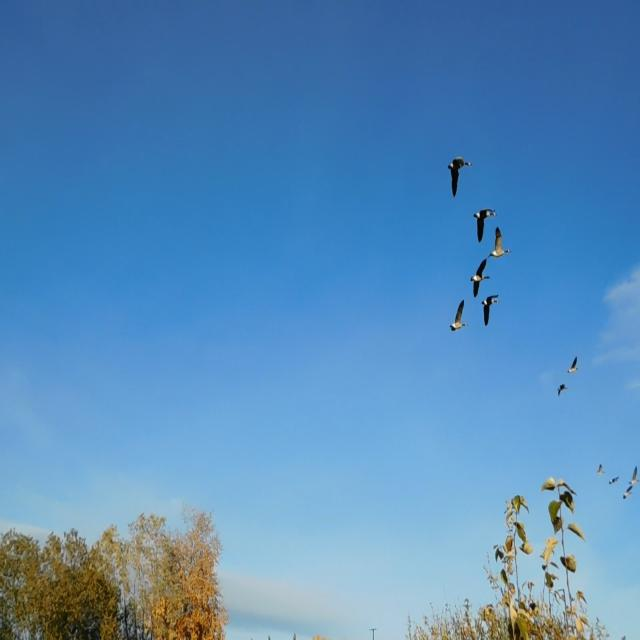bird: (446, 154, 472, 199), (466, 255, 491, 301), (491, 223, 512, 268), (472, 205, 496, 244), (480, 288, 501, 328), (448, 297, 468, 336), (567, 356, 580, 376), (628, 465, 640, 486), (622, 485, 634, 501), (558, 381, 568, 398), (595, 462, 606, 477), (607, 473, 619, 486)
